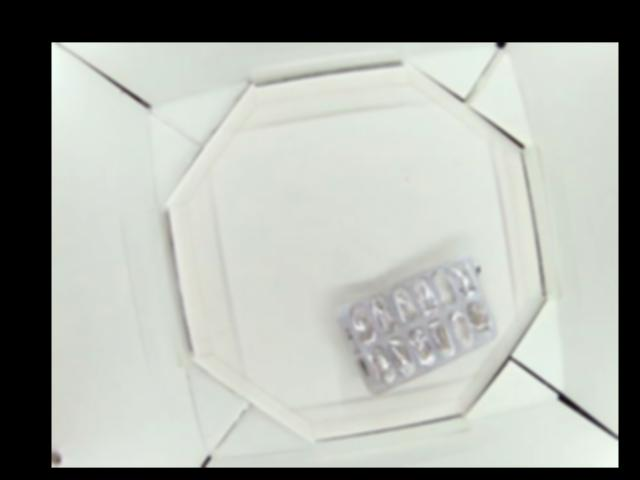Medicine: (333, 258, 498, 396)
